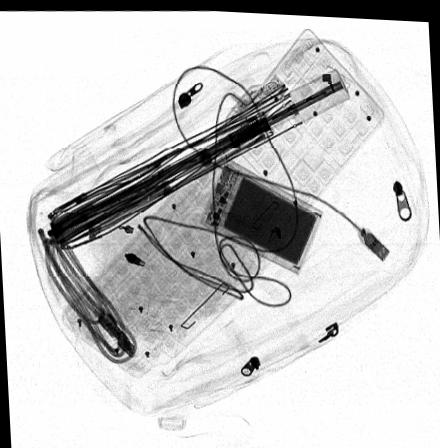Powerbank: (200, 154, 323, 273)
